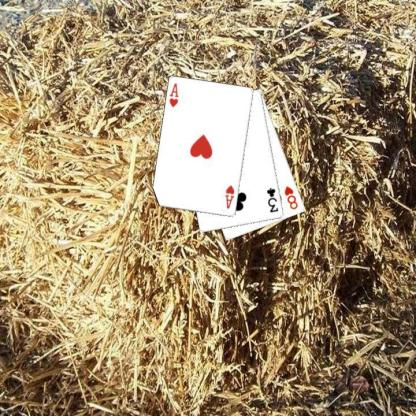3C: (264, 185, 280, 214)
8H: (282, 183, 299, 211)
AH: (166, 81, 180, 109), (222, 183, 236, 210)
